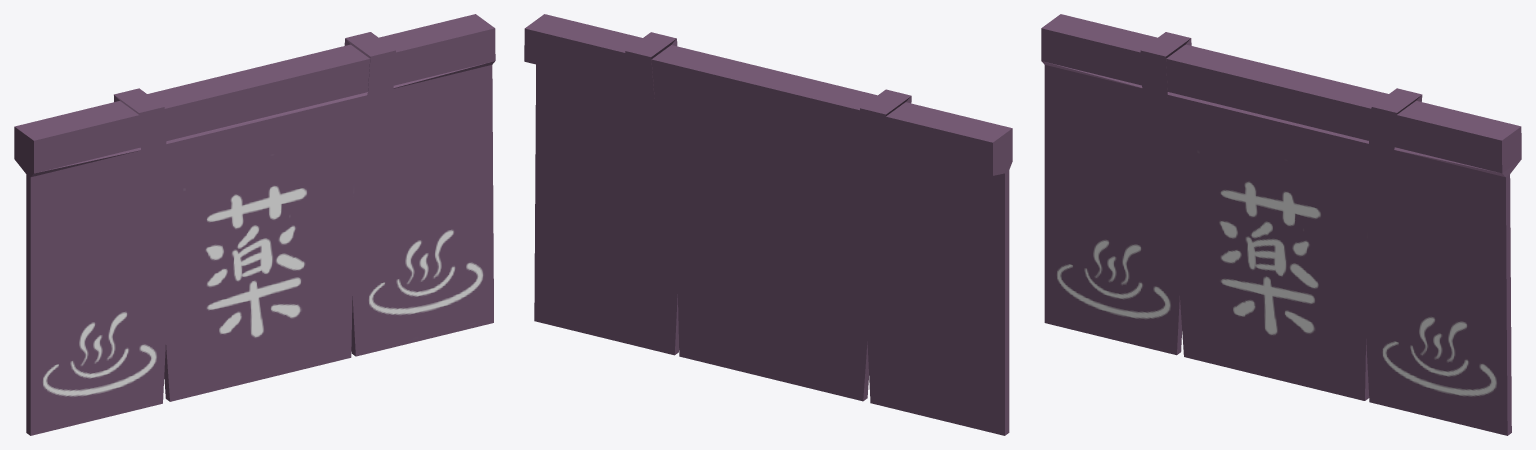
File: Noren_Purple_Medicine.fbx
The picture shows the model from 3 angles, left to right: view 1: azimuth 30°, elevation 25°; view 2: azimuth 150°, elevation 25°; view 3: azimuth 330°, elevation 25°; orthographic projection.
Visible parts, largest first — view 1: Noren_Purple_Medicine; view 2: Noren_Purple_Medicine; view 3: Noren_Purple_Medicine.
Boxes of the visible parts, <box> form: Noren_Purple_Medicine: <box>14,14,495,435</box>; Noren_Purple_Medicine: <box>524,14,1012,435</box>; Noren_Purple_Medicine: <box>1041,14,1521,435</box>.
Size of the model in its own units: 1 by 0.6267 by 0.0953.
1 material, 1 textured.
